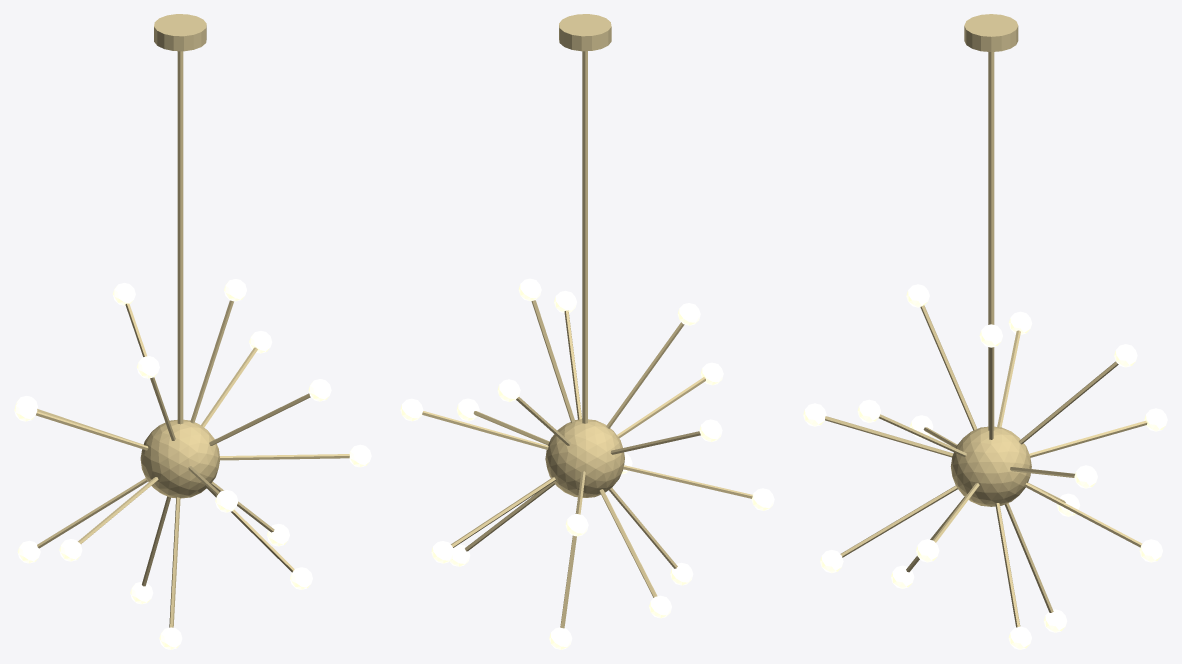
The model's file is sputnik.glb.
3 renders of one model, left to right at view 1: azimuth 30°, elevation 25°; view 2: azimuth 150°, elevation 25°; view 3: azimuth 270°, elevation 25°, orthographic.
Parts seen in each view (by area): view 1: sputnik_gold, sputnik_lamp_glass, sputnik_brass; view 2: sputnik_gold, sputnik_lamp_glass, sputnik_brass; view 3: sputnik_gold, sputnik_lamp_glass, sputnik_brass.
Part boxes in pixels (x1,y1,x2,y2): sputnik_gold: (36,14,349,627); sputnik_lamp_glass: (14,279,371,649); sputnik_brass: (140,419,220,498); sputnik_gold: (422,14,752,628); sputnik_lamp_glass: (400,278,774,649); sputnik_brass: (545,419,624,497); sputnik_gold: (825,14,1147,627); sputnik_lamp_glass: (803,284,1167,649); sputnik_brass: (950,426,1031,506).
Size of the model in its own units: 1.08 by 1.99 by 1.08.
